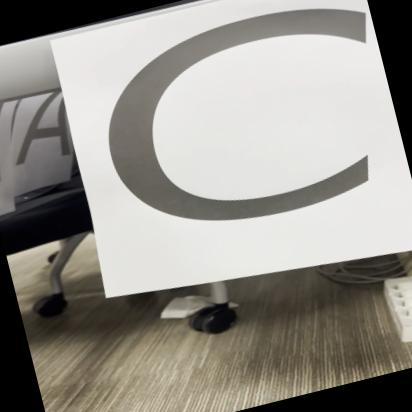seat: (60, 0, 410, 330)
